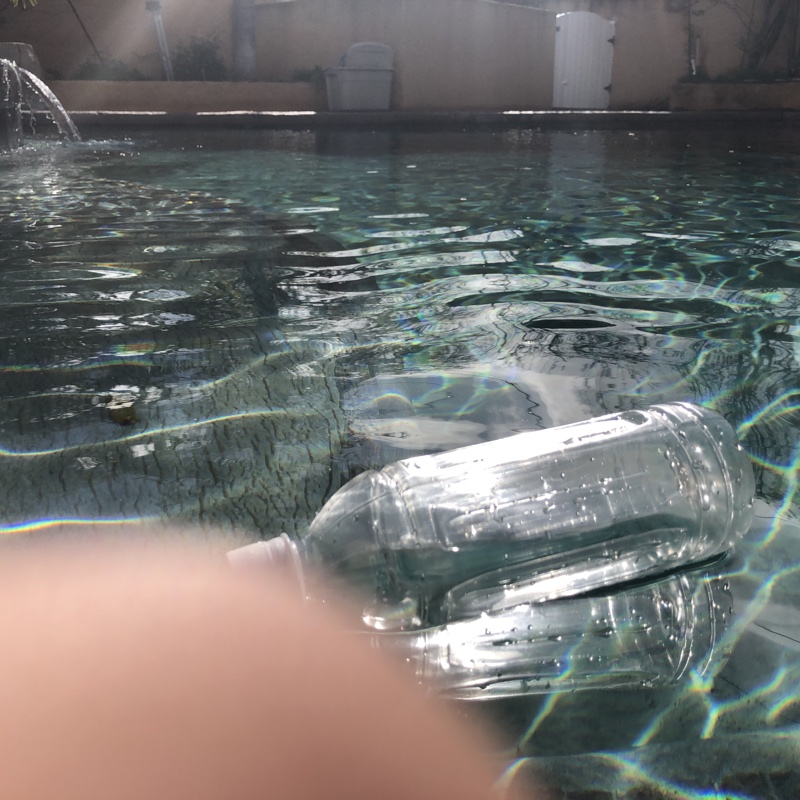Plastic Bottle: (220, 397, 756, 609)
